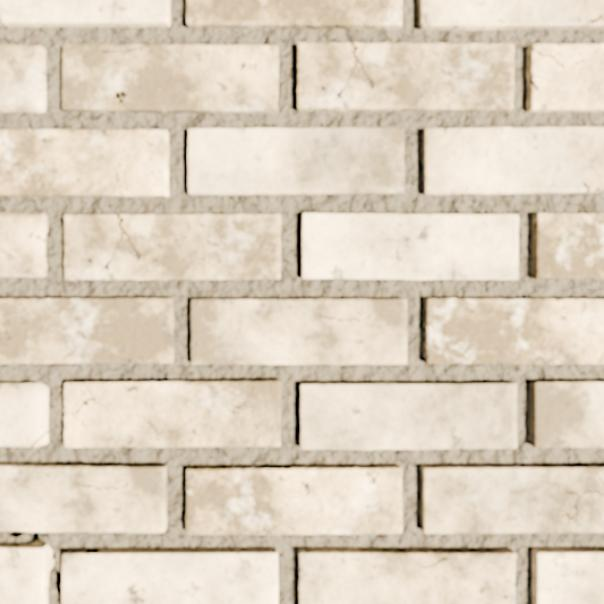brick: (63, 45, 277, 113), (297, 44, 513, 111), (186, 466, 401, 533), (301, 382, 516, 449), (64, 380, 279, 446), (189, 129, 403, 195), (302, 215, 517, 279), (64, 215, 279, 279), (192, 300, 405, 363), (422, 465, 603, 532), (423, 128, 603, 195), (300, 549, 515, 603), (62, 550, 277, 603), (425, 299, 603, 363), (0, 464, 166, 532), (0, 130, 167, 196), (0, 299, 173, 362), (186, 0, 401, 28), (419, 0, 603, 29), (527, 45, 603, 111), (531, 381, 603, 447), (533, 214, 603, 278), (0, 0, 170, 26), (533, 549, 603, 603), (0, 544, 47, 603)
broken_brick: (0, 45, 47, 113), (0, 383, 49, 447), (0, 213, 48, 278), (33, 436, 48, 448)
crack: (2, 531, 62, 603), (336, 43, 376, 100), (104, 214, 142, 271), (63, 383, 106, 429), (560, 489, 603, 525), (531, 44, 565, 67), (99, 44, 151, 54), (0, 316, 12, 342), (30, 430, 48, 447), (582, 180, 603, 193), (582, 14, 603, 27), (398, 170, 403, 176), (598, 477, 603, 483)
